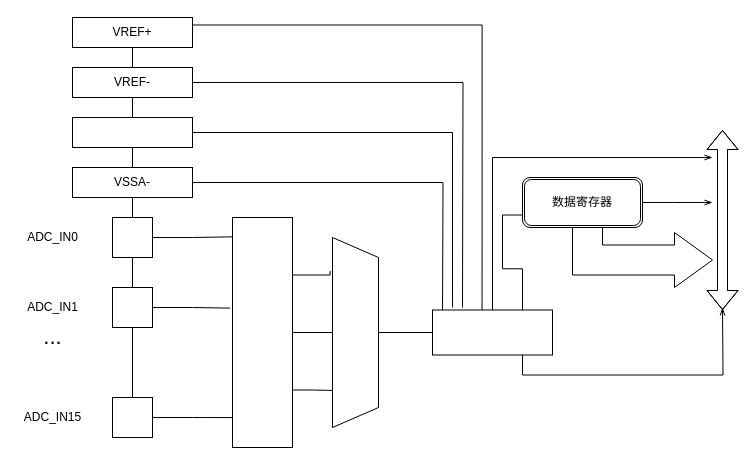
Image size: 755x465. Some labels were removed from this diagram. The centre of each missing label's shape, as x and y in pixels:
VDDA: the point at 132,132
中断请求: the point at 642,257
